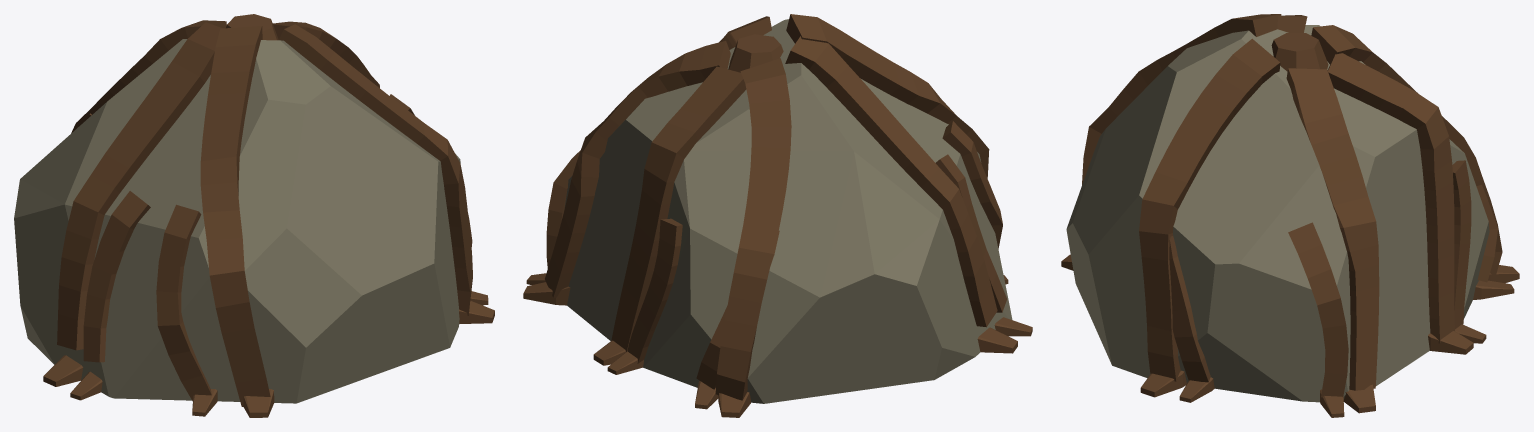
File: RootyBoulder.fbx
3 views of the same model, side by side, from view 1: azimuth 30°, elevation 25°; view 2: azimuth 150°, elevation 25°; view 3: azimuth 270°, elevation 25° (orthographic). The views are drawn at different scales.
Visible parts, largest first — view 1: RootyBoulder, RootyBoulder_Roots; view 2: RootyBoulder, RootyBoulder_Roots; view 3: RootyBoulder, RootyBoulder_Roots.
Part boxes in pixels (bbox=[...]): RootyBoulder: bbox=[14, 39, 460, 403]; RootyBoulder_Roots: bbox=[43, 14, 494, 417]; RootyBoulder: bbox=[564, 19, 1012, 403]; RootyBoulder_Roots: bbox=[523, 14, 1032, 417]; RootyBoulder: bbox=[1066, 25, 1489, 402]; RootyBoulder_Roots: bbox=[1061, 14, 1519, 417].
Bounding box in the file's own units: 28.59 × 18.09 × 25.89.
